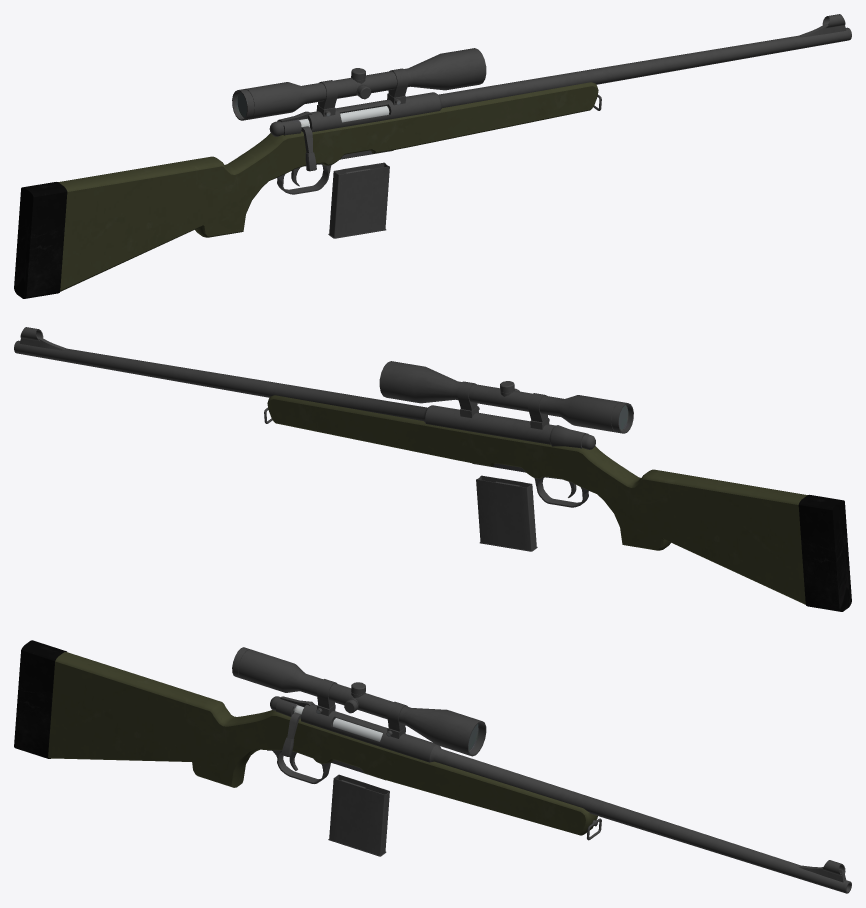
The model's file is Sniper.glb.
3 renders of one model, top to bottom at view 1: azimuth 30°, elevation 25°; view 2: azimuth 150°, elevation 25°; view 3: azimuth 330°, elevation 25°, orthographic.
Visible parts, largest first — view 1: Sniper; view 2: Sniper; view 3: Sniper.
Part boxes in pixels (x1=…): Sniper: x1=14, y1=14, x2=851, y2=298; Sniper: x1=14, y1=327, x2=851, y2=611; Sniper: x1=14, y1=640, x2=851, y2=893.
Bounding box in the file's own units: 1.1 × 0.2176 × 0.0542.
Materials: 1 (1 with a texture image).
